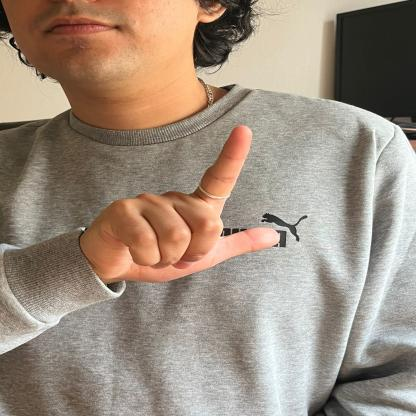L: (96, 115, 290, 289)
